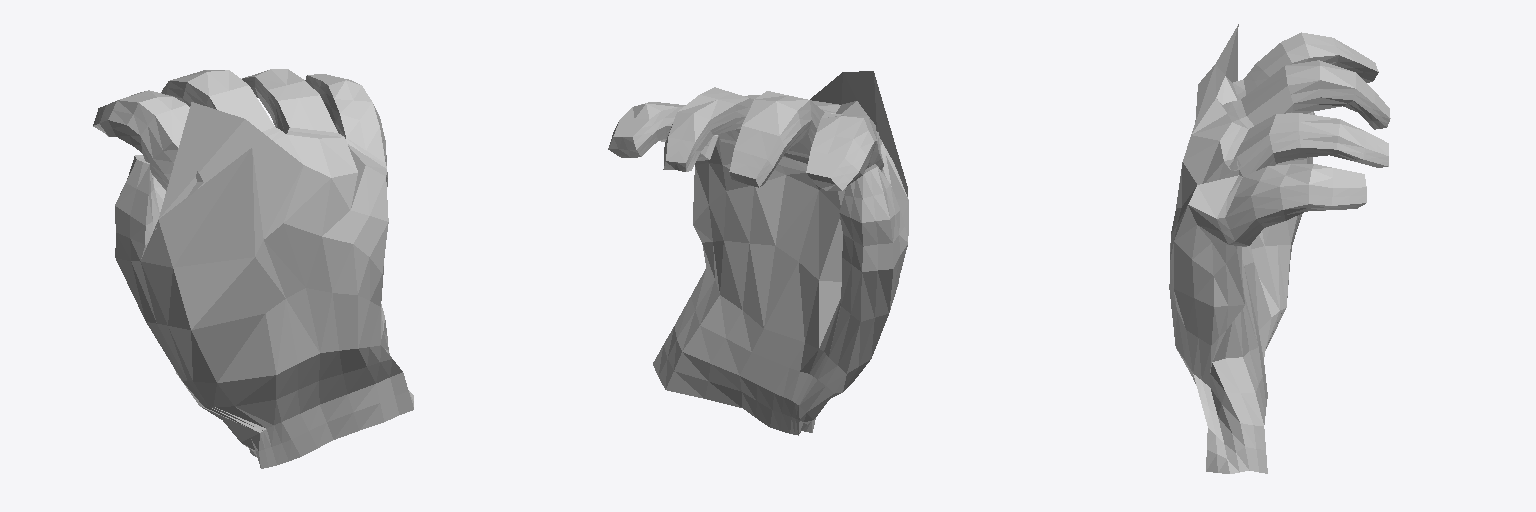
File: hand_sub2_triang0046.obj
3 views of the same model, side by side, from view 1: azimuth 30°, elevation 25°; view 2: azimuth 150°, elevation 25°; view 3: azimuth 270°, elevation 25° (orthographic).
Visible parts, largest first — view 1: Hand; view 2: Hand; view 3: Hand.
Boxes of the visible parts, x1,y1,x2,y2 form: Hand: [93, 69, 413, 468]; Hand: [608, 71, 908, 435]; Hand: [1169, 24, 1390, 473].
Bounding box in the file's own units: 2.8 × 3.82 × 2.01.